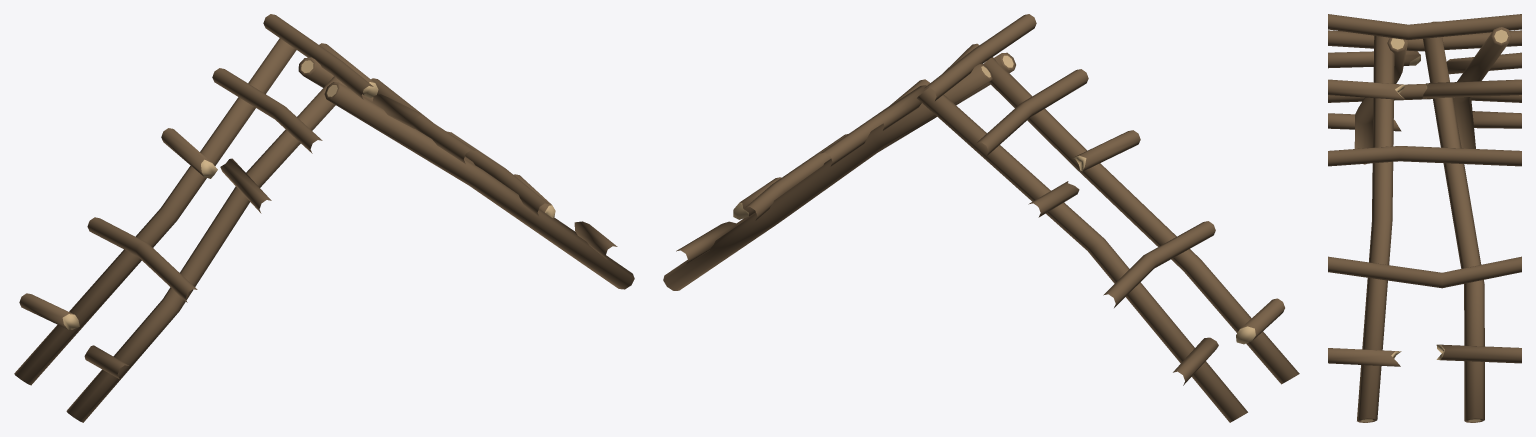
Rendered from rpgpp_av_roof_support_01_9x4x3_a.gltf.
3 views of the same model, side by side, from view 1: azimuth 30°, elevation 25°; view 2: azimuth 150°, elevation 25°; view 3: azimuth 270°, elevation 25° (orthographic). The views are drawn at different scales.
Visible parts, largest first — view 1: rpgpp_av_roof_support_01_9x4x3_a; view 2: rpgpp_av_roof_support_01_9x4x3_a; view 3: rpgpp_av_roof_support_01_9x4x3_a.
Boxes of the visible parts, x1=… form: rpgpp_av_roof_support_01_9x4x3_a: x1=14, y1=14, x2=634, y2=422; rpgpp_av_roof_support_01_9x4x3_a: x1=663, y1=14, x2=1299, y2=422; rpgpp_av_roof_support_01_9x4x3_a: x1=1328, y1=14, x2=1521, y2=422.
Bounding box in the file's own units: 0.0999 × 0.0477 × 0.03.
1 material, 1 textured.
